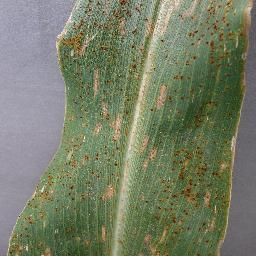Gray_Leaf_Spot: (0, 0, 7, 256)
